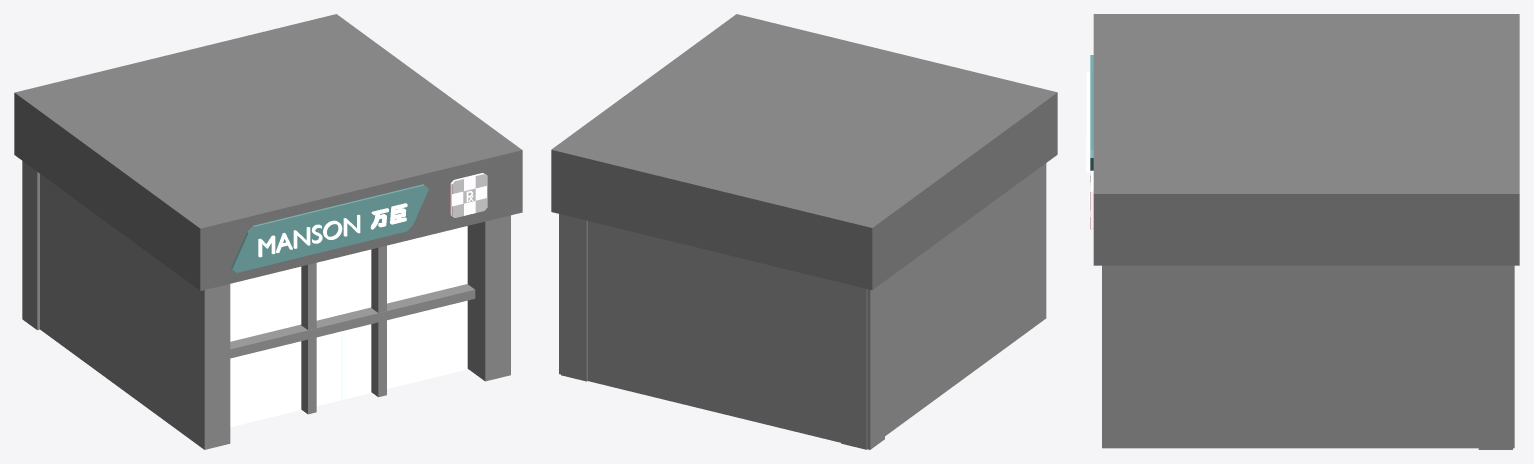
The picture shows the model from 3 angles, left to right: view 1: azimuth 30°, elevation 25°; view 2: azimuth 150°, elevation 25°; view 3: azimuth 270°, elevation 25°; orthographic projection. The views are drawn at different scales.
Visible parts, largest first — view 1: Top, Wall Side, Wall Side 2, Sign, Cube.006, Cube.007, Cube.010, Cube.011, Cube.005, Cube.008, Wall Back, Cube.003 (+7 smaller); view 2: Top, Wall Back, Wall Side, Wall Side 2; view 3: Top, Wall Side 2, Wall Back, Sign.
Part boxes in pixels (left/top/right/bottom): Top: left=14, top=14, right=522, bottom=290; Wall Side: left=40, top=174, right=230, bottom=449; Wall Side 2: left=467, top=215, right=510, bottom=381; Sign: left=231, top=184, right=428, bottom=272; Cube.006: left=387, top=300, right=467, bottom=388; Cube.007: left=230, top=341, right=301, bottom=427; Cube.010: left=387, top=226, right=467, bottom=303; Cube.011: left=230, top=266, right=301, bottom=341; Cube.005: left=230, top=284, right=475, bottom=358; Cube.008: left=316, top=249, right=371, bottom=320; Wall Back: left=22, top=161, right=39, bottom=330; Cube.003: left=301, top=263, right=316, bottom=414; Top: left=551, top=14, right=1057, bottom=290; Wall Back: left=559, top=214, right=884, bottom=449; Wall Side: left=841, top=163, right=1046, bottom=449; Wall Side 2: left=561, top=214, right=587, bottom=381; Top: left=1093, top=14, right=1519, bottom=265; Wall Side 2: left=1102, top=265, right=1514, bottom=448; Wall Back: left=1478, top=265, right=1512, bottom=449; Sign: left=1090, top=55, right=1093, bottom=170.
Size of the model in its own units: 13.26 by 8.89 by 13.48.
